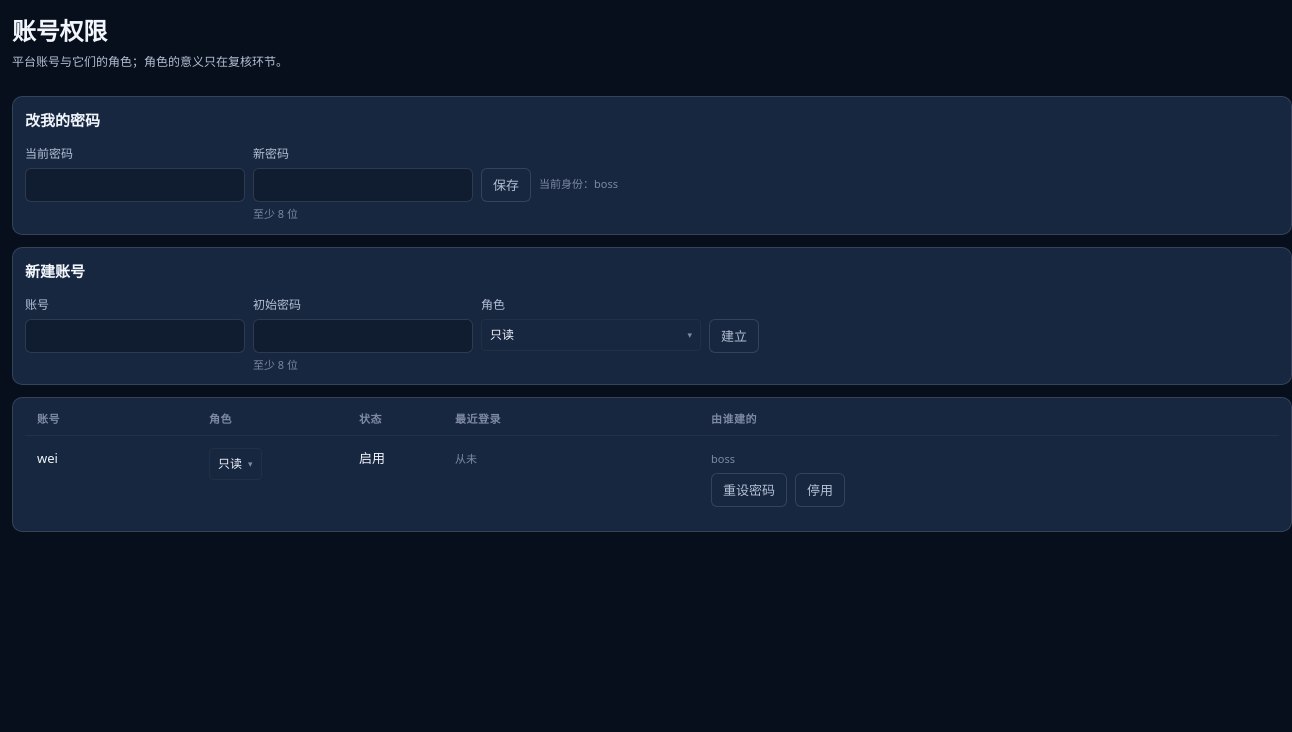
Test: 账号权限页的密码框 › 提交失败：错误就近以 alert 播报，并被输入框引用
The image size is (1292, 732).
Expected: the label "当前密码" is shown, [25,144,245,202]
Type "wrong-one" into the password field labelled "当前密码". click: (135, 185)
box: [25,168,245,202]
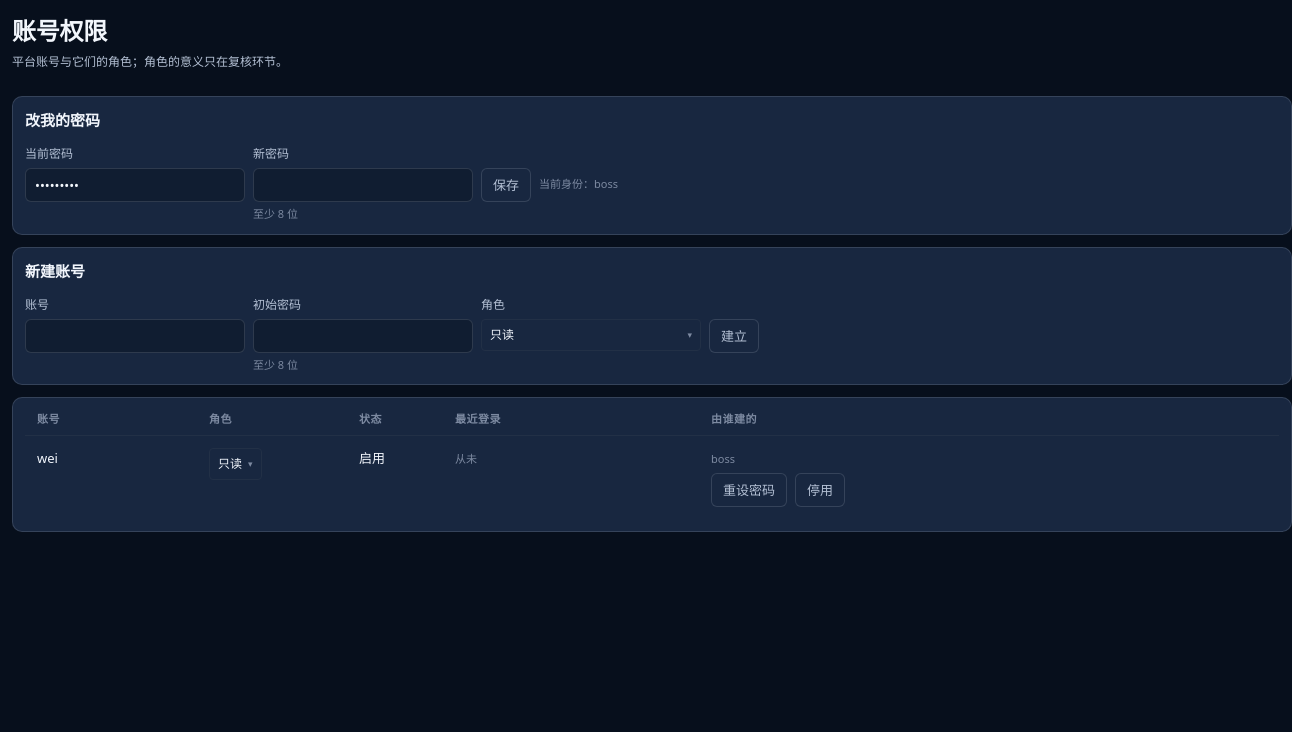
Expected: the label "新密码" is shown, [253,145,289,162]
Type "new-password-1" into the password field labelled "新密码". click: (363, 185)
box: [253,168,473,202]
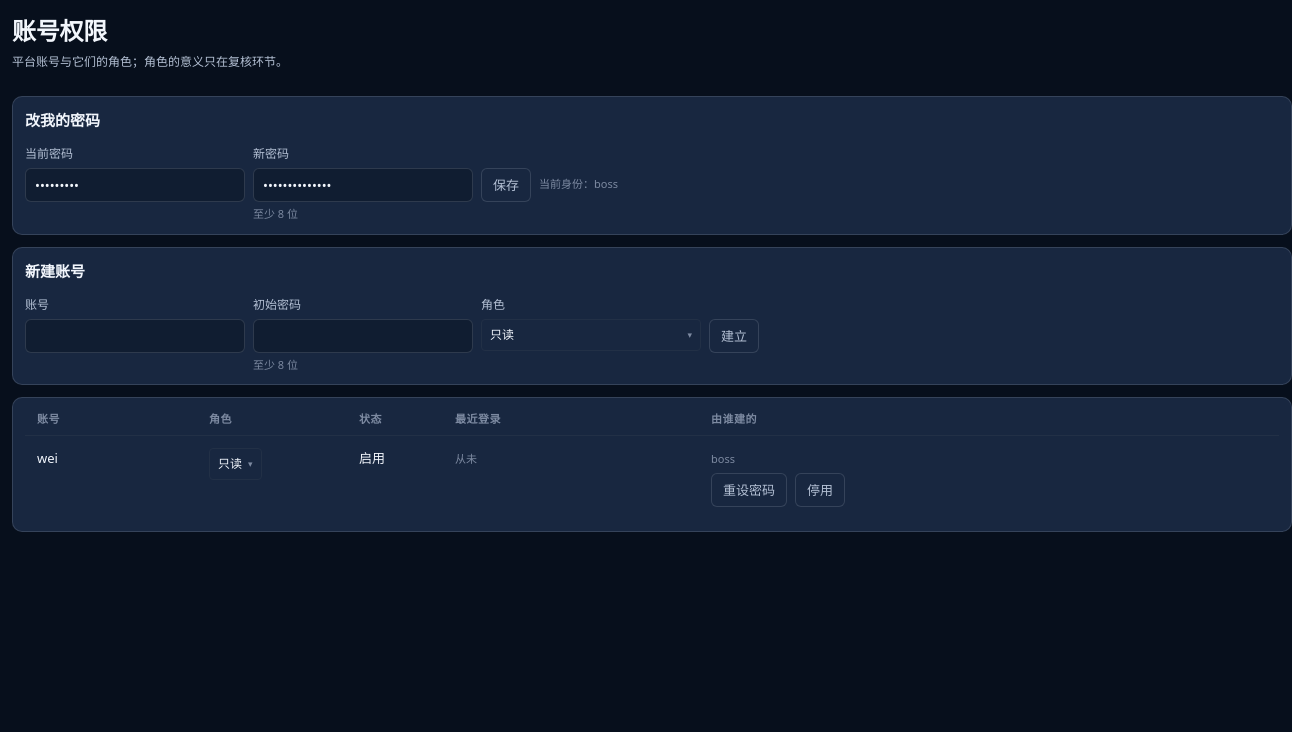
Submit the form "当前密码 新密码 至少 8 位 保存 当前身份：boss", box [25,145,618,221]
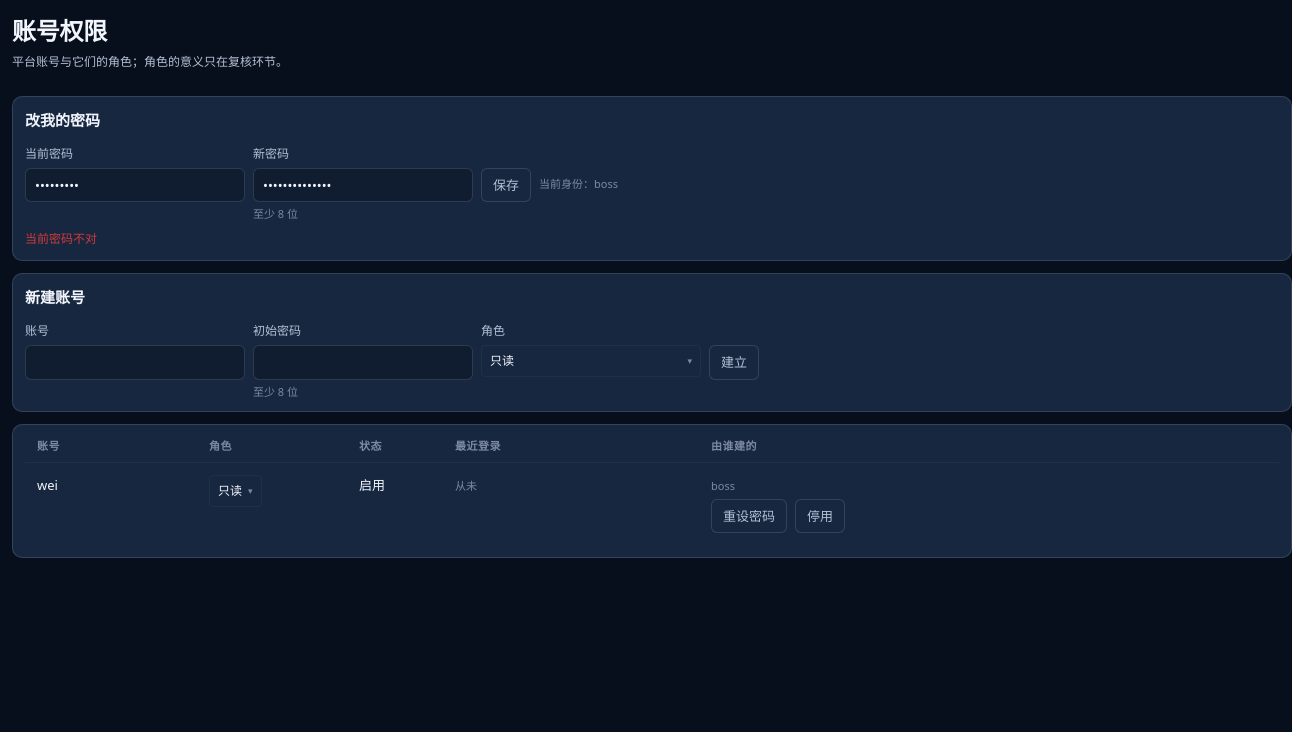
Expected: the message "当前密码不对" is shown, [25,230,97,247]
